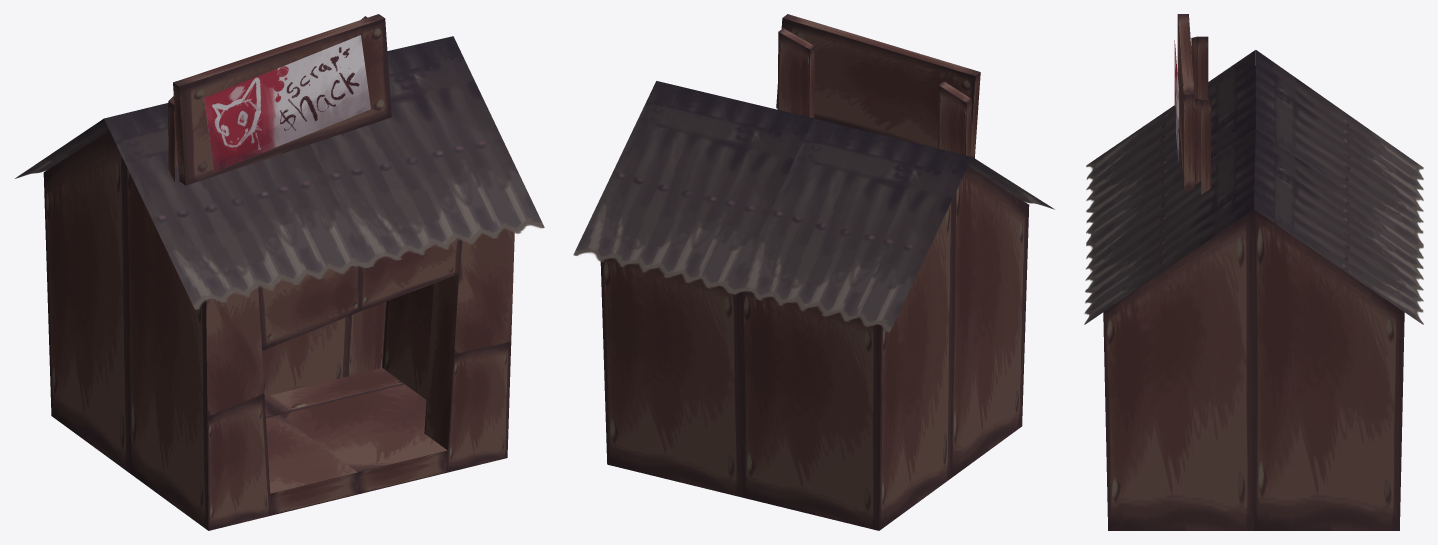
File: shack.glb
3 renders of one model, left to right at view 1: azimuth 30°, elevation 25°; view 2: azimuth 150°, elevation 25°; view 3: azimuth 270°, elevation 25°, orthographic. The views are drawn at different scales.
Parts seen in each view (by area): view 1: Cube; view 2: Cube; view 3: Cube.
Part boxes in pixels (x1=…): Cube: x1=14, y1=14, x2=544, y2=530; Cube: x1=573, y1=14, x2=1054, y2=530; Cube: x1=1084, y1=14, x2=1423, y2=530.
Size of the model in its own units: 7.86 by 9.3 by 7.14.
Materials: 3 (3 with a texture image).
